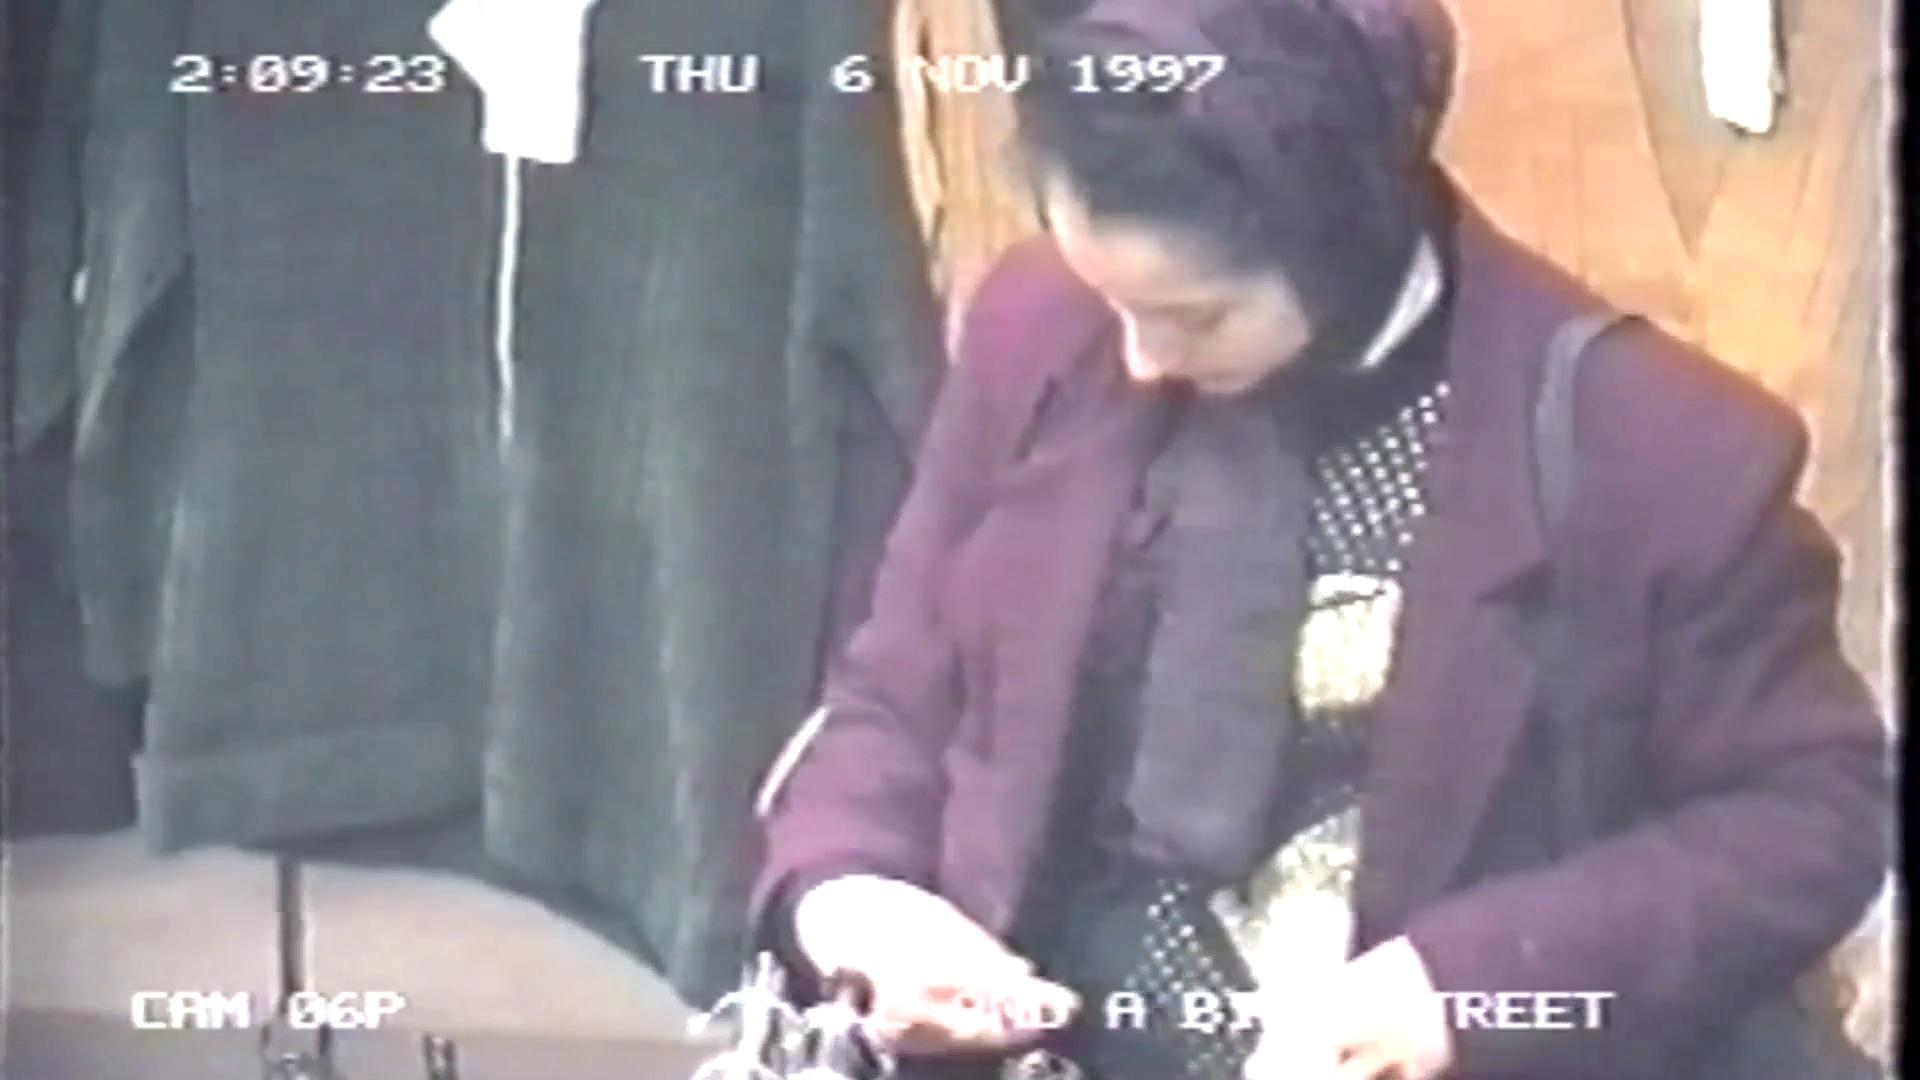Customer-Bagpack: (1597, 857, 1826, 1080)
Regular: (618, 7, 1891, 1080)
